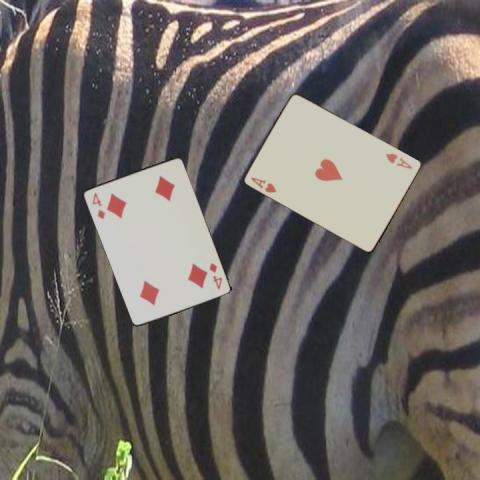4d: (89, 189, 106, 221), (206, 260, 223, 292)
Ah: (383, 150, 414, 171), (248, 174, 278, 194)
